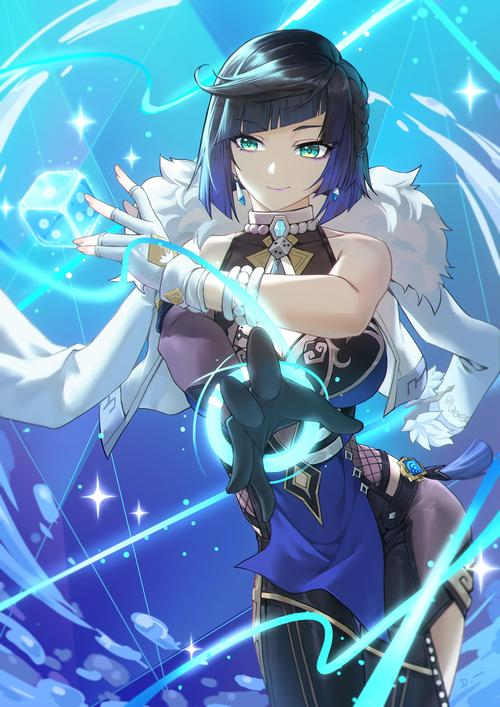夜兰: (61, 27, 500, 707)
